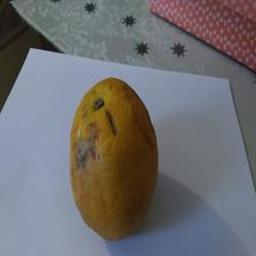Orange Semifresh: (54, 70, 168, 247)
